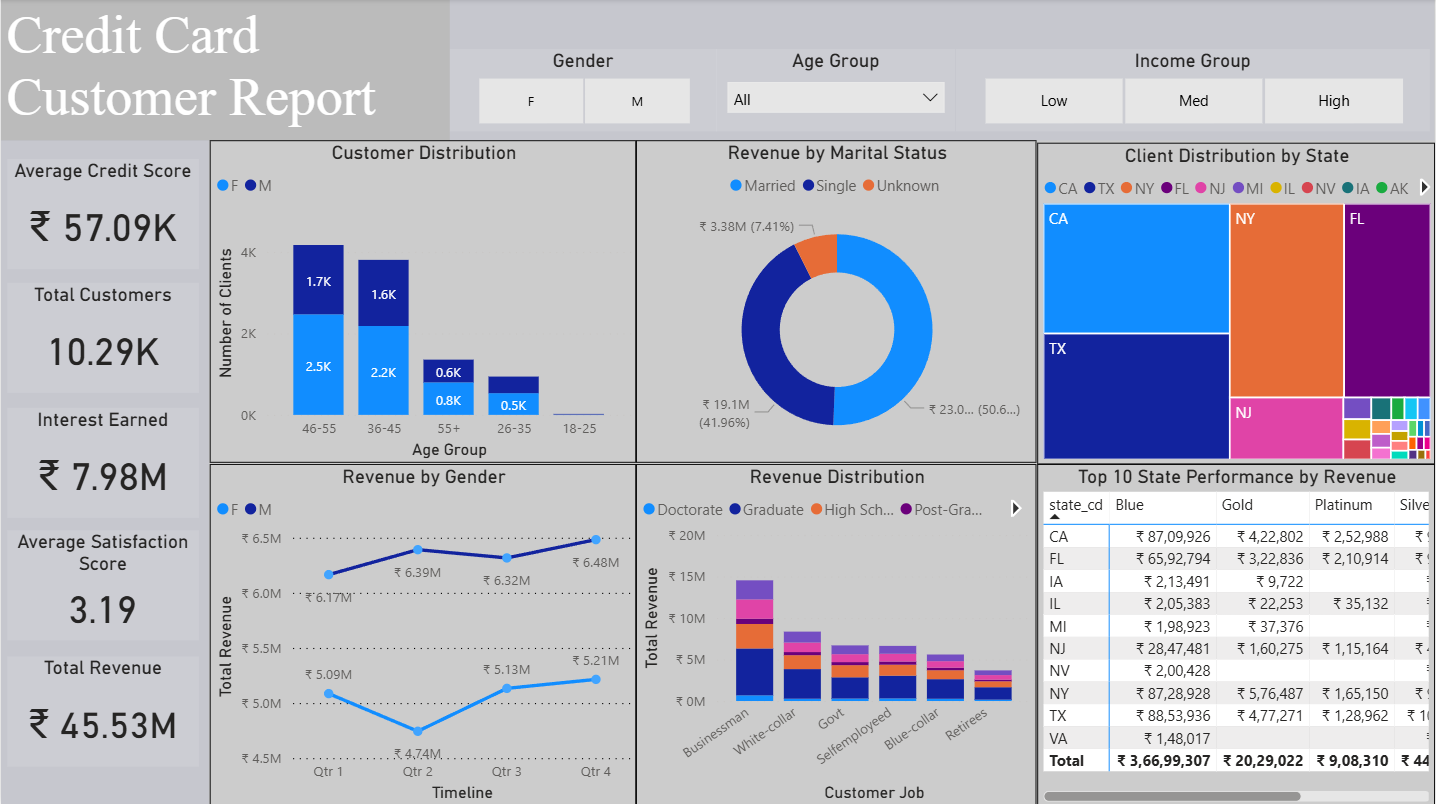

The dashboard page shown, as its layout file describes it:
{"tool":"powerbi","page":{"name":"Customer Report","canvas":[1280,720],"ordinal":0},"visuals":[{"type":"shape","box":[0,126.7,185.9,593.8],"z":0},{"type":"shape","box":[400.9,0,879.6,126.7],"z":1000},{"type":"slicer","title":"Gender","fields":{"Values":["customer.Gender"]},"box":[400.8,45.1,238.2,73.2],"z":2000},{"type":"slicer","title":"Age Group","fields":{"Values":["customer.Age_Group"]},"box":[639,45.1,213.8,73.2],"z":3000},{"type":"slicer","title":"Income Group","fields":{"Values":["customer.Income_Group"]},"box":[852.8,45.1,423,73.2],"z":4000},{"type":"card","title":"Average Credit Score","fields":{"Values":["Key_Measures.Avg_Income"]},"box":[5.8,142.9,170.8,98.8],"z":5000},{"type":"card","title":"Total Revenue","fields":{"Values":["Key_Measures.Total_Revenue"]},"box":[5.8,586.8,170.8,98.8],"z":6000},{"type":"card","title":"Total Customers","fields":{"Values":["CountNonNull(customer.Client_Num)"]},"box":[5.8,253.3,170.8,98.8],"z":9000},{"type":"card","title":"Interest Earned","fields":{"Values":["Sum(CreditCard.Interest_Earned)"]},"box":[5.8,364.9,170.8,98.8],"z":10000},{"type":"card","title":"Average Satisfaction Score","fields":{"Values":["Avg(customer.Cust_Satisfaction_Score)"]},"box":[5.8,474.1,170.8,98.8],"z":11000},{"type":"columnChart","title":"Customer Distribution","fields":{"Category":["customer.Age_Group"],"Y":["CountNonNull(customer.Client_Num)"],"Series":["customer.Gender"]},"box":[185.9,126.7,381.1,288.2],"z":12000},{"type":"lineChart","title":"Revenue by Gender","fields":{"Category":["CreditCard.Week_Num - Copy"],"Y":["Key_Measures.Total_Revenue"]},"box":[185.9,414.8,381.1,305.6],"z":13000},{"type":"donutChart","title":"Revenue by Marital Status","fields":{"Category":["customer.Marital_Status"],"Y":["Key_Measures.Total_Revenue"]},"box":[567,126.7,357.9,288.2],"z":14000},{"type":"lineStackedColumnComboChart","title":"Revenue Distribution","fields":{"Category":["customer.Customer_Job"],"Y":["Key_Measures.Total_Revenue"],"Series":["customer.Education_Level"]},"box":[567,414.8,357.9,305.6],"z":15000},{"type":"treemap","title":"Client Distribution by State","fields":{"Group":["customer.state_cd"],"Values":["CountNonNull(customer.Client_Num)"]},"box":[924.9,127.8,355.6,287],"z":16000},{"type":"pivotTable","title":"Top 10 State Performance by Revenue","fields":{"Rows":["customer.state_cd"],"Columns":["CreditCard.Card_Category"],"Values":["Key_Measures.Total_Revenue"]},"box":[924.9,414.8,355.6,305.6],"z":17000},{"type":"textbox","box":[0,0,400.9,126.7],"z":17001}]}

Visuals, with their boxes in screenshot pixels (x1, y1, x2, y2), scaled from the page's 1280x720 canvas onto the 1436x804 screenshot:
shape: x1=0 y1=141 x2=209 y2=803
shape: x1=450 y1=0 x2=1435 y2=141
"Gender" slicer: x1=450 y1=50 x2=717 y2=132
"Age Group" slicer: x1=717 y1=50 x2=957 y2=132
"Income Group" slicer: x1=957 y1=50 x2=1431 y2=132
"Average Credit Score" card: x1=7 y1=160 x2=198 y2=270
"Total Revenue" card: x1=7 y1=655 x2=198 y2=766
"Total Customers" card: x1=7 y1=283 x2=198 y2=393
"Interest Earned" card: x1=7 y1=407 x2=198 y2=518
"Average Satisfaction Score" card: x1=7 y1=529 x2=198 y2=640
"Customer Distribution" columnChart: x1=209 y1=141 x2=636 y2=463
"Revenue by Gender" lineChart: x1=209 y1=463 x2=636 y2=803
"Revenue by Marital Status" donutChart: x1=636 y1=141 x2=1038 y2=463
"Revenue Distribution" lineStackedColumnComboChart: x1=636 y1=463 x2=1038 y2=803
"Client Distribution by State" treemap: x1=1038 y1=143 x2=1435 y2=463
"Top 10 State Performance by Revenue" pivotTable: x1=1038 y1=463 x2=1435 y2=803
textbox: x1=0 y1=0 x2=450 y2=141
